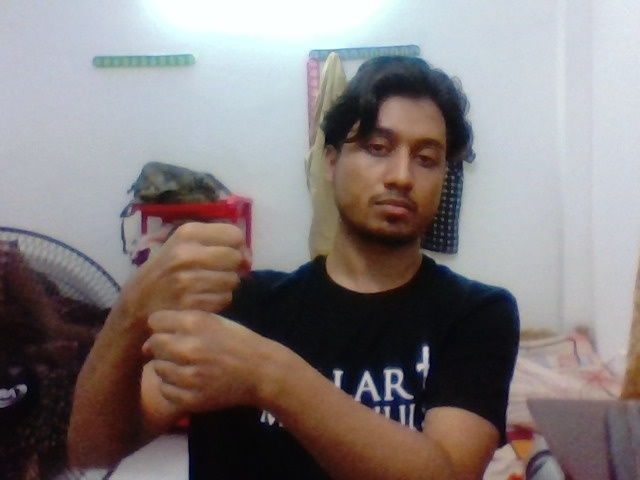G: (135, 208, 279, 415)
